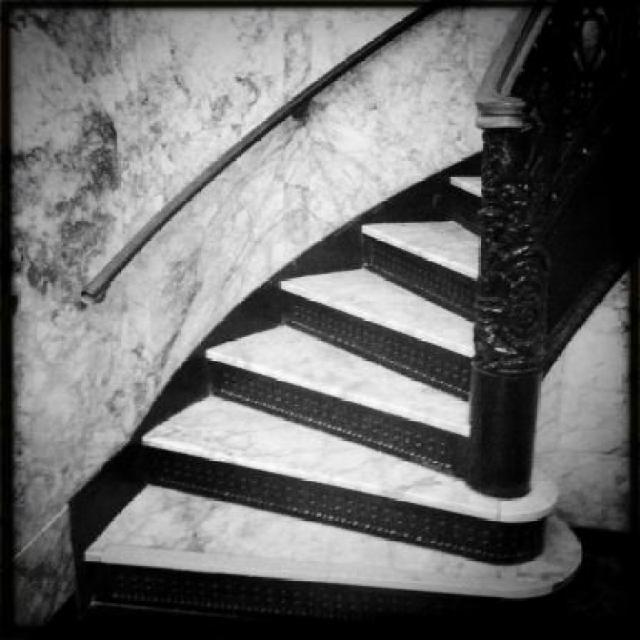stair: (83, 177, 579, 640)
